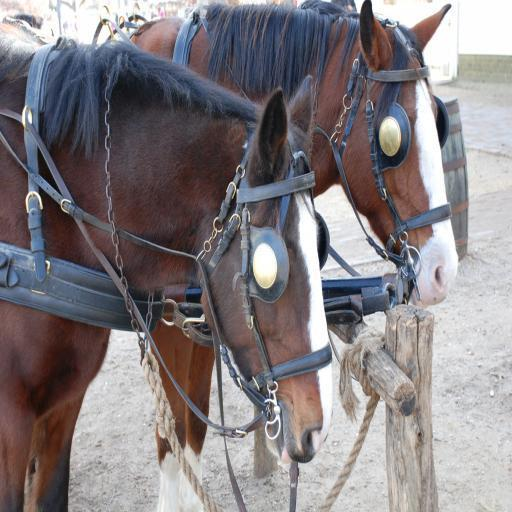horse: (120, 0, 459, 511), (0, 19, 335, 511)
